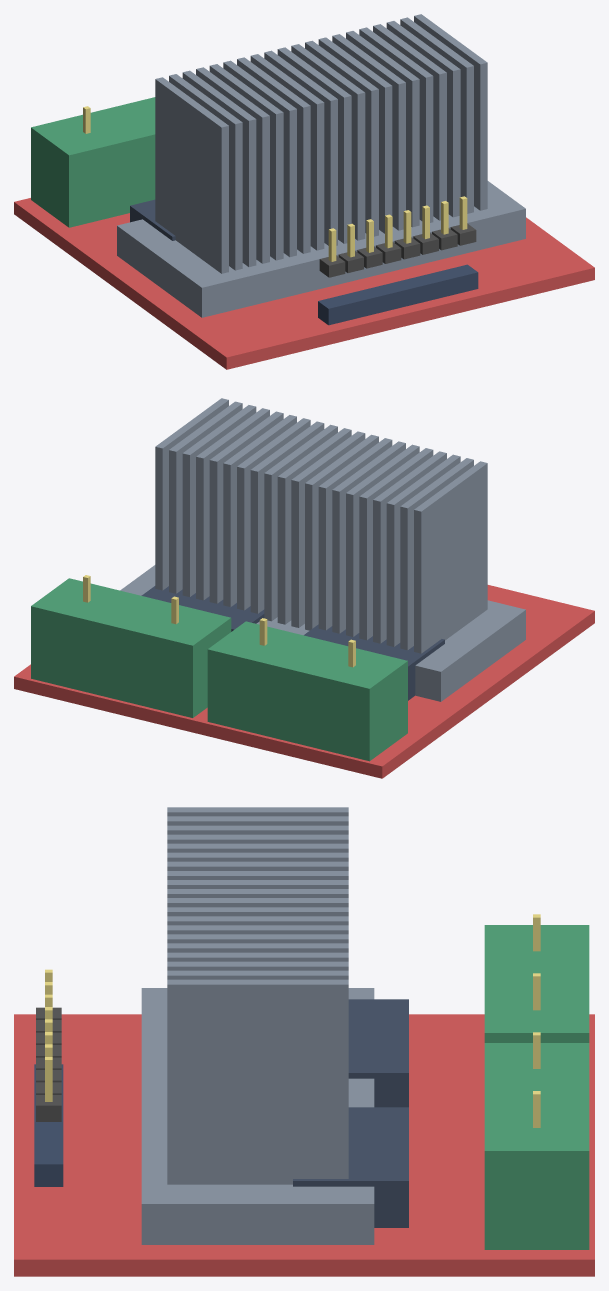
The model's file is bts7960-motor-driver.glb.
3 renders of one model, top to bottom at view 1: azimuth 30°, elevation 25°; view 2: azimuth 150°, elevation 25°; view 3: azimuth 270°, elevation 25°, orthographic. The views are drawn at different scales.
Parts seen in each view (by area): view 1: bts7960-motor-driver_mesh; view 2: bts7960-motor-driver_mesh; view 3: bts7960-motor-driver_mesh.
Boxes of the visible parts, <box> form: bts7960-motor-driver_mesh: <box>14,14,594,369</box>; bts7960-motor-driver_mesh: <box>14,398,594,778</box>; bts7960-motor-driver_mesh: <box>14,807,594,1276</box>.
Bounding box in the file's own units: 50 × 24.48 × 50.
